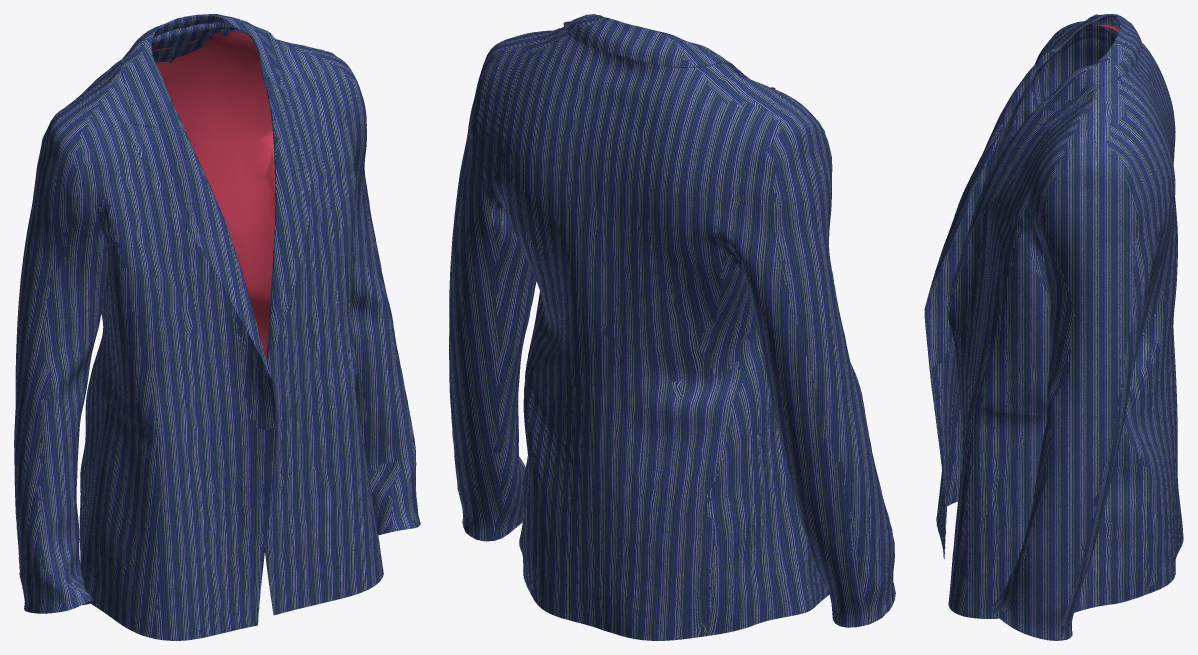
The model's file is blazer_web.glb.
3 renders of one model, left to right at view 1: azimuth 30°, elevation 25°; view 2: azimuth 150°, elevation 25°; view 3: azimuth 270°, elevation 25°, orthographic. The views are drawn at different scales.
Parts seen in each view (by area): view 1: body, left_sleeve, lining, right_sleeve, collar; view 2: body, left_sleeve, right_sleeve, collar; view 3: body, right_sleeve, collar, left_sleeve.
Boxes of the visible parts, x1=… form: body: x1=48, y1=23, x2=383, y2=640; left_sleeve: x1=14, y1=122, x2=108, y2=613; lining: x1=152, y1=31, x2=275, y2=359; right_sleeve: x1=343, y1=61, x2=420, y2=535; collar: x1=121, y1=14, x2=302, y2=127; body: x1=479, y1=26, x2=829, y2=640; left_sleeve: x1=734, y1=119, x2=895, y2=627; right_sleeve: x1=449, y1=46, x2=536, y2=541; collar: x1=563, y1=14, x2=749, y2=79; body: x1=924, y1=14, x2=1183, y2=618; right_sleeve: x1=992, y1=159, x2=1155, y2=640; collar: x1=1040, y1=14, x2=1141, y2=129; left_sleeve: x1=1048, y1=38, x2=1108, y2=96.
Bounding box in the file's own units: 59.58 × 79.72 × 34.63.
Materials: 2 (1 with a texture image).
